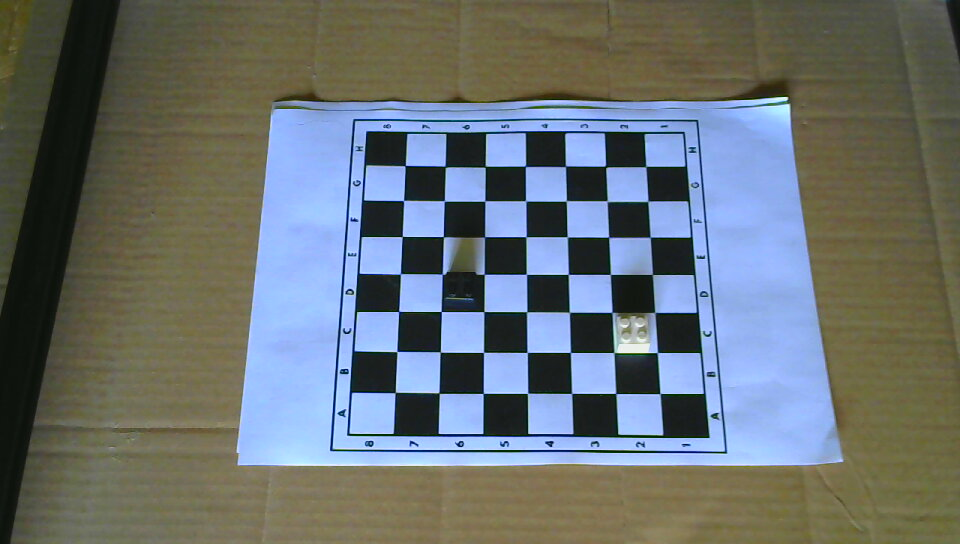bp: (443, 269, 478, 309)
wp: (614, 311, 652, 355)
